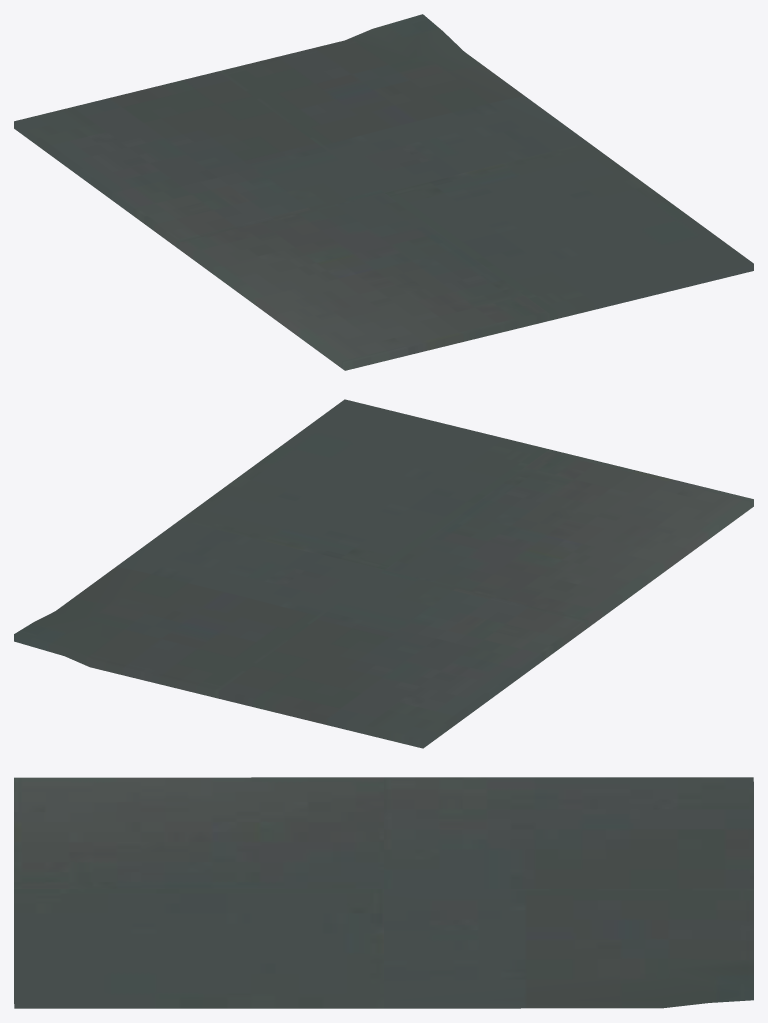
3 views of the same model, one above another, from view 1: azimuth 30°, elevation 25°; view 2: azimuth 150°, elevation 25°; view 3: azimuth 270°, elevation 25° (orthographic). The views are drawn at different scales.
Parts seen in each view (by area): view 1: 30436272704370637613_0; view 2: 30436272704370637613_0; view 3: 30436272704370637613_0.
Boxes of the visible parts, x1,y1,x2,y2 form: 30436272704370637613_0: (14, 14, 753, 370); 30436272704370637613_0: (14, 399, 753, 748); 30436272704370637613_0: (14, 777, 753, 1008).
Size of the model in its own units: 27.32 by 0.9437 by 38.26.
1 material, 1 textured.
